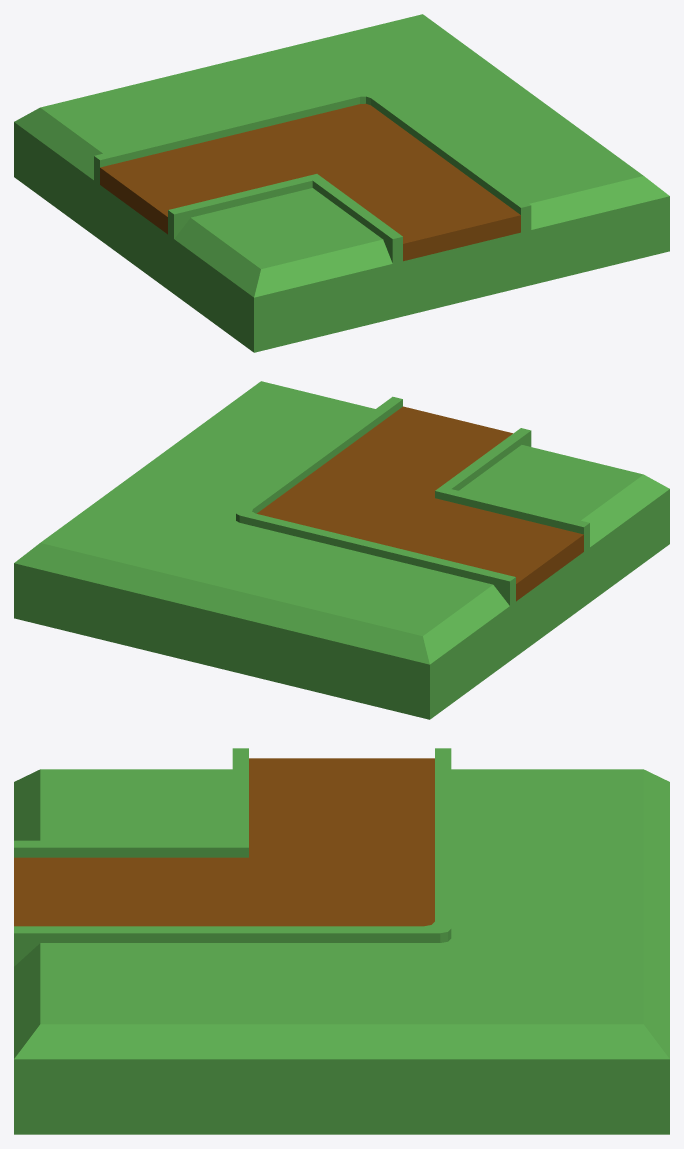
The model's file is Road_LeftTile.fbx.
3 views of the same model, one above another, from view 1: azimuth 30°, elevation 25°; view 2: azimuth 150°, elevation 25°; view 3: azimuth 270°, elevation 25° (orthographic). The views are drawn at different scales.
Parts seen in each view (by area): view 1: Cube; view 2: Cube; view 3: Cube.
Part boxes in pixels (bbox=[...]): Cube: bbox=[14, 14, 669, 352]; Cube: bbox=[14, 381, 669, 719]; Cube: bbox=[14, 748, 669, 1134].
Size of the model in its own units: 600 by 110 by 600.
